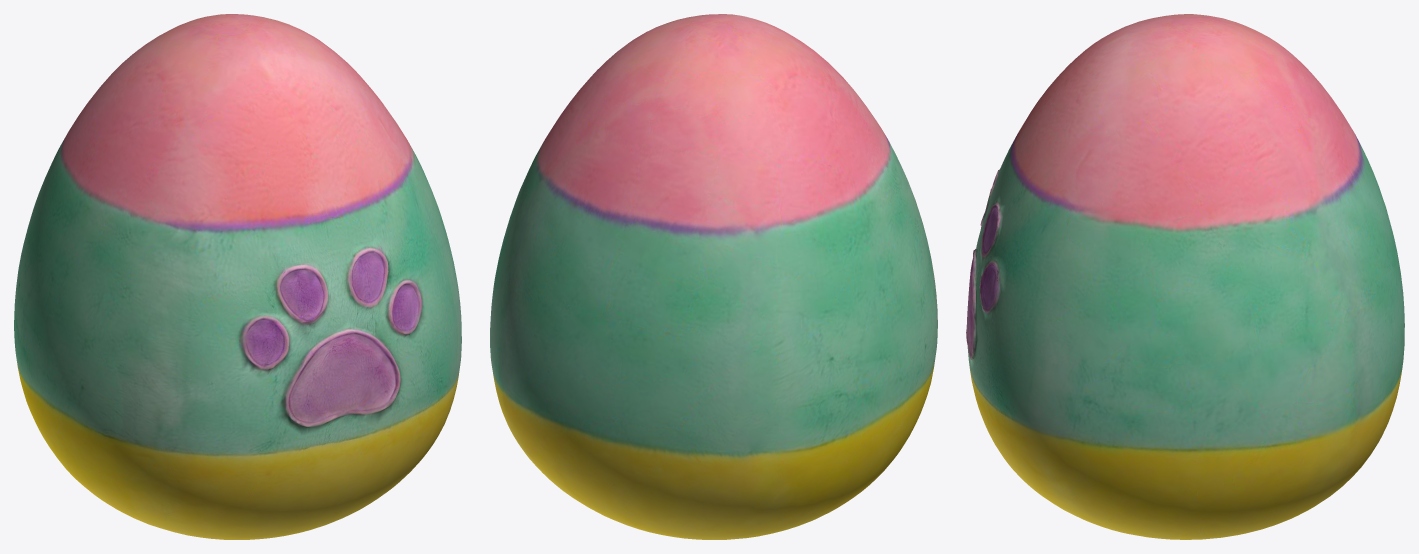
File: egg.glb
The picture shows the model from 3 angles, left to right: view 1: azimuth 30°, elevation 25°; view 2: azimuth 150°, elevation 25°; view 3: azimuth 270°, elevation 25°; orthographic projection.
Size of the model in its own units: 0.8128 by 1 by 0.8176.
1 material, 1 textured.
